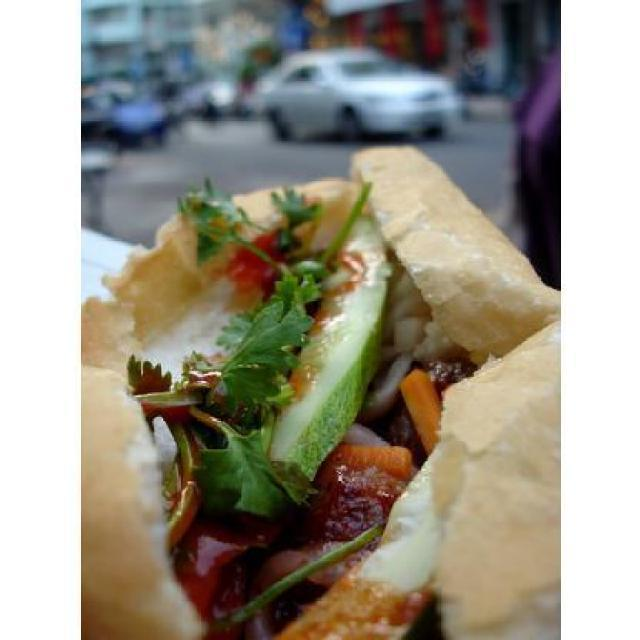Carrot: (400, 370, 443, 452), (329, 444, 409, 473)
